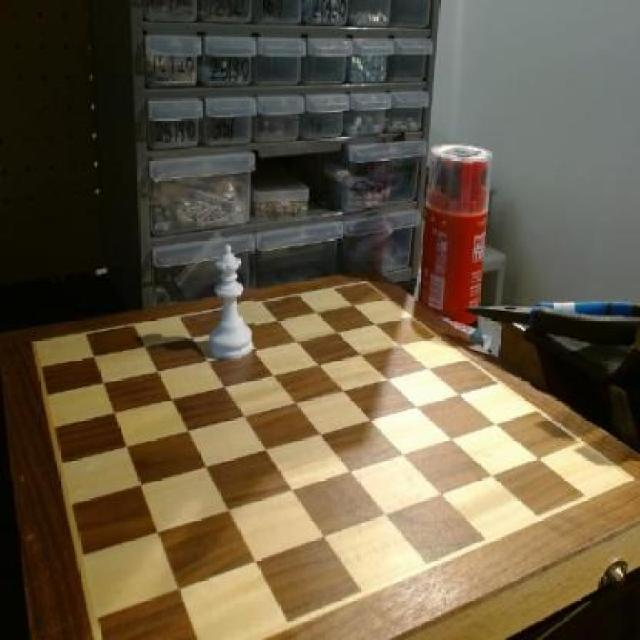white-pawn: (207, 245, 256, 366)
